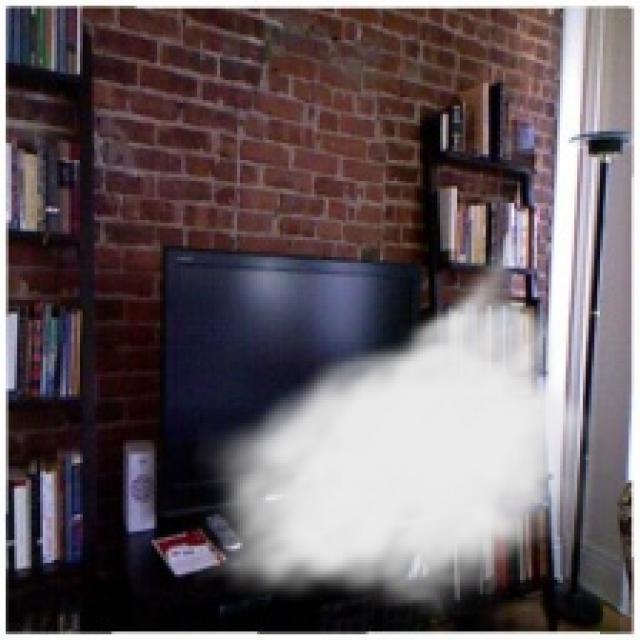smoke: (191, 226, 603, 617)
